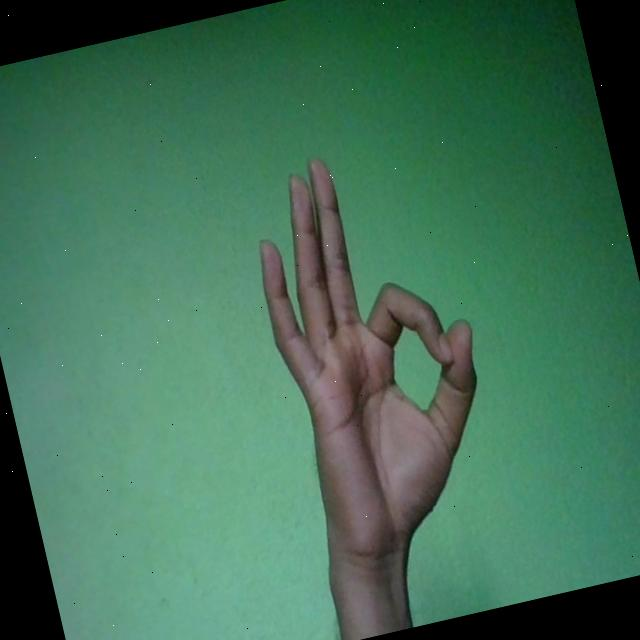Rock On: (235, 128, 520, 578)
